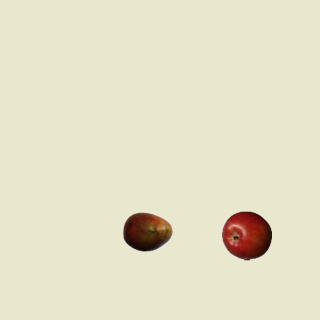Apple Braeburn: (221, 210, 271, 260)
Mango Red: (122, 206, 172, 256)
